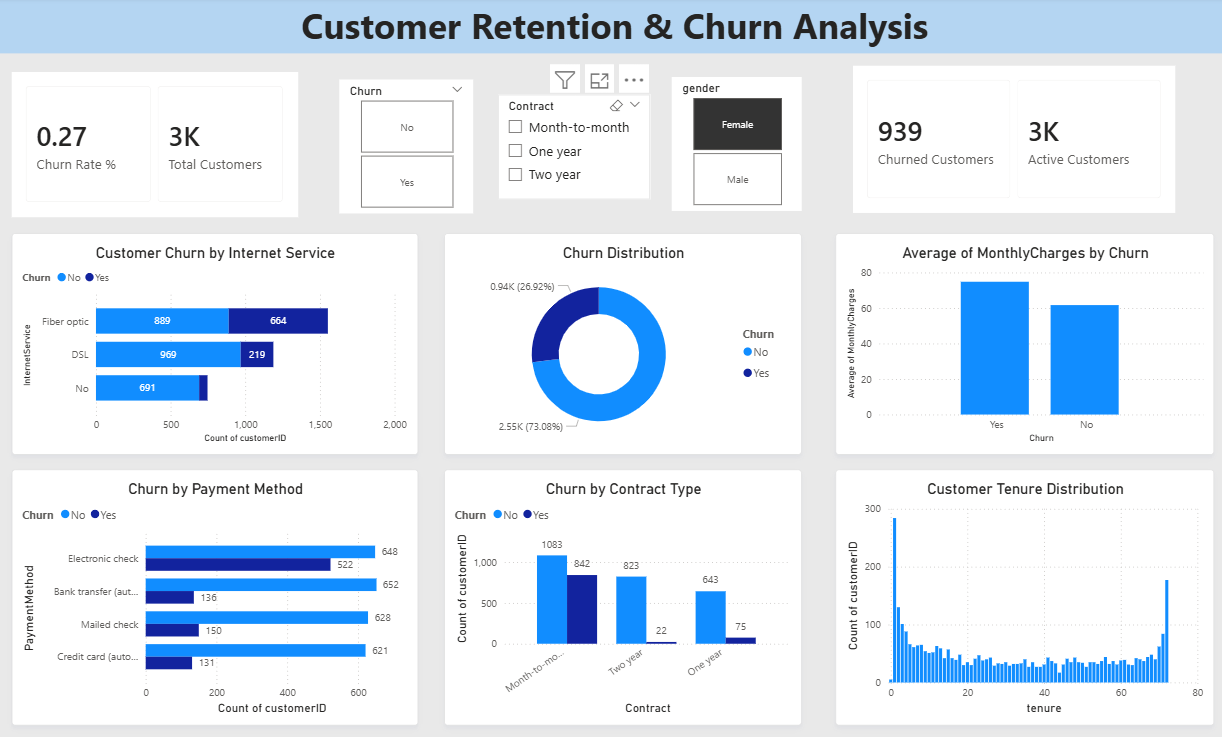

Layout of this report page (visuals, bound fields, positions):
{"tool":"powerbi","page":{"name":"Page 1","canvas":[1500,900],"ordinal":0},"visuals":[{"type":"cardVisual","fields":{"Data":["WA_Fn-UseC_-Telco-Customer-Churn.Churned Customers","WA_Fn-UseC_-Telco-Customer-Churn.Active Customers"]},"box":[1037.5,82.9,389.1,177.9],"z":0},{"type":"textbox","box":[0,0,1500.5,67.9],"z":1000},{"type":"slicer","fields":{"Values":["WA_Fn-UseC_-Telco-Customer-Churn.Churn"]},"box":[417.7,99.5,161.4,161.4],"z":2000},{"type":"donutChart","title":"Churn Distribution","fields":{"Y":["Count(WA_Fn-UseC_-Telco-Customer-Churn.customerID)"],"Category":["WA_Fn-UseC_-Telco-Customer-Churn.Churn"]},"box":[544.4,285,431.3,266.9],"z":3000},{"type":"clusteredColumnChart","title":"Churn by Contract Type","fields":{"Category":["WA_Fn-UseC_-Telco-Customer-Churn.Contract"],"Y":["Count(WA_Fn-UseC_-Telco-Customer-Churn.customerID)"],"Series":["WA_Fn-UseC_-Telco-Customer-Churn.Churn"]},"box":[544.4,570,431.3,309.2],"z":4000},{"type":"barChart","title":"Customer Churn by Internet Service","fields":{"Y":["CountNonNull(WA_Fn-UseC_-Telco-Customer-Churn.customerID)"],"Series":["WA_Fn-UseC_-Telco-Customer-Churn.Churn"],"Category":["WA_Fn-UseC_-Telco-Customer-Churn.InternetService"]},"box":[22.6,285,490.1,266.9],"z":5000},{"type":"clusteredBarChart","title":"Churn by Payment Method","fields":{"Category":["WA_Fn-UseC_-Telco-Customer-Churn.PaymentMethod"],"Series":["WA_Fn-UseC_-Telco-Customer-Churn.Churn"],"Y":["CountNonNull(WA_Fn-UseC_-Telco-Customer-Churn.customerID)"]},"box":[22.6,570,490.1,309.2],"z":6000},{"type":"columnChart","title":"Customer Tenure Distribution","fields":{"Category":["WA_Fn-UseC_-Telco-Customer-Churn.tenure"],"Y":["CountNonNull(WA_Fn-UseC_-Telco-Customer-Churn.customerID)"]},"box":[1016.4,570,456.9,309.2],"z":7000},{"type":"clusteredColumnChart","fields":{"Y":["Avg(WA_Fn-UseC_-Telco-Customer-Churn.MonthlyCharges)"],"Category":["WA_Fn-UseC_-Telco-Customer-Churn.Churn"]},"box":[1016.4,285,456.9,266.9],"z":7001},{"type":"slicer","fields":{"Values":["WA_Fn-UseC_-Telco-Customer-Churn.Contract"]},"box":[609.3,117.6,184,126.7],"z":7002},{"type":"slicer","fields":{"Values":["WA_Fn-UseC_-Telco-Customer-Churn.gender"]},"box":[818.9,96.5,156.8,161.4],"z":7003},{"type":"cardVisual","fields":{"Data":["WA_Fn-UseC_-Telco-Customer-Churn.Churn Rate","WA_Fn-UseC_-Telco-Customer-Churn.Total Customers"]},"box":[22.6,90.5,345.3,174.9],"z":7005}]}

Visuals, with their boxes in screenshot pixels (x1, y1, x2, y2), scaled from the page's 1500x900 canvas onto the 1222x737 screenshot:
cardVisual - WA_Fn-UseC_-Telco-Customer-Churn.Churned Customers x WA_Fn-UseC_-Telco-Customer-Churn.Active Customers: 845 68 1162 214
textbox: 0 0 1221 56
slicer - WA_Fn-UseC_-Telco-Customer-Churn.Churn: 340 81 472 214
"Churn Distribution" donutChart: 444 233 795 452
"Churn by Contract Type" clusteredColumnChart: 444 467 795 720
"Customer Churn by Internet Service" barChart: 18 233 418 452
"Churn by Payment Method" clusteredBarChart: 18 467 418 720
"Customer Tenure Distribution" columnChart: 828 467 1200 720
clusteredColumnChart - Avg(WA_Fn-UseC_-Telco-Customer-Churn.MonthlyCharges) x WA_Fn-UseC_-Telco-Customer-Churn.Churn: 828 233 1200 452
slicer - WA_Fn-UseC_-Telco-Customer-Churn.Contract: 496 96 646 200
slicer - WA_Fn-UseC_-Telco-Customer-Churn.gender: 667 79 795 211
cardVisual - WA_Fn-UseC_-Telco-Customer-Churn.Churn Rate x WA_Fn-UseC_-Telco-Customer-Churn.Total Customers: 18 74 300 217
